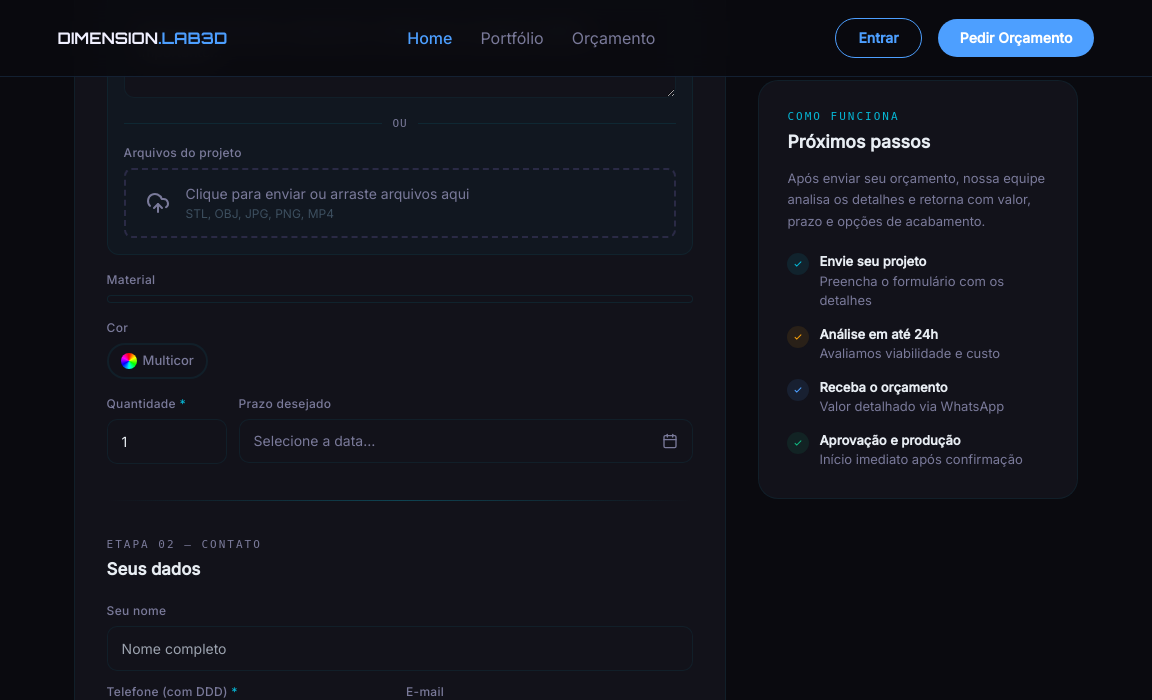
Test case: QuoteRequest page › shows validation error when submitting without description
(page scrolled)
// Select color so zod validation passes, then submit with empty description
Step 1. Click the button "Multicor" → (157, 361), box top-left (107, 343), bottom-right (208, 379)
(page scrolled)
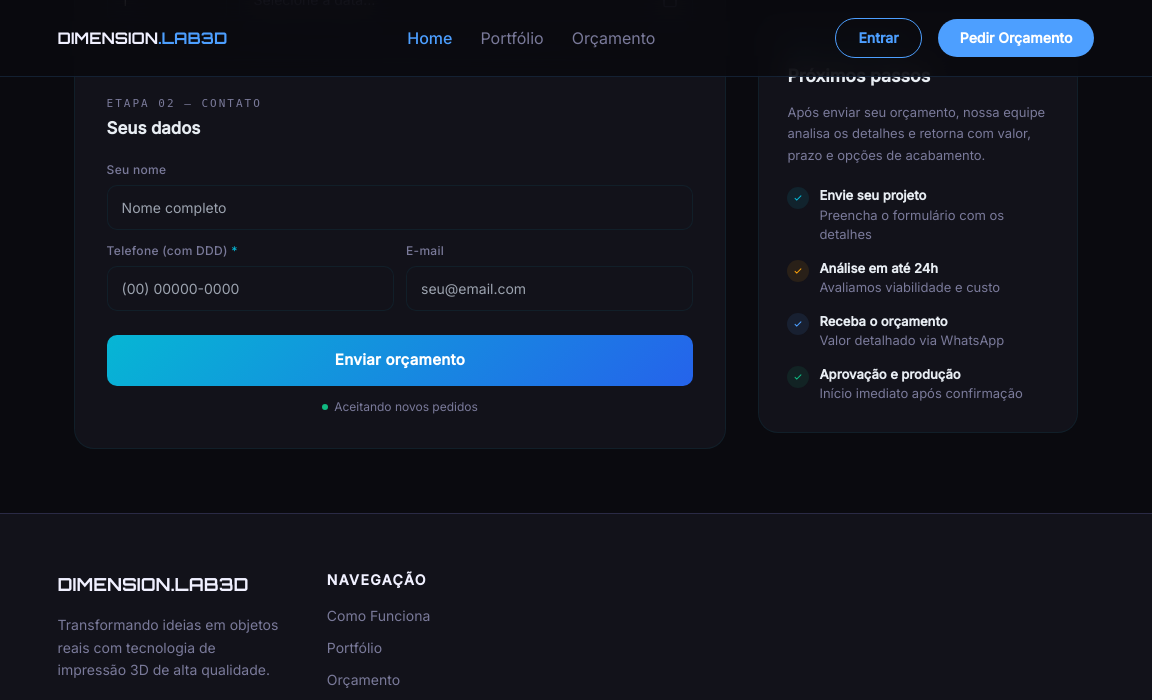
Step 2. Click the button "Enviar orçamento" → (400, 361), box top-left (107, 335), bottom-right (693, 386)
(page scrolled)
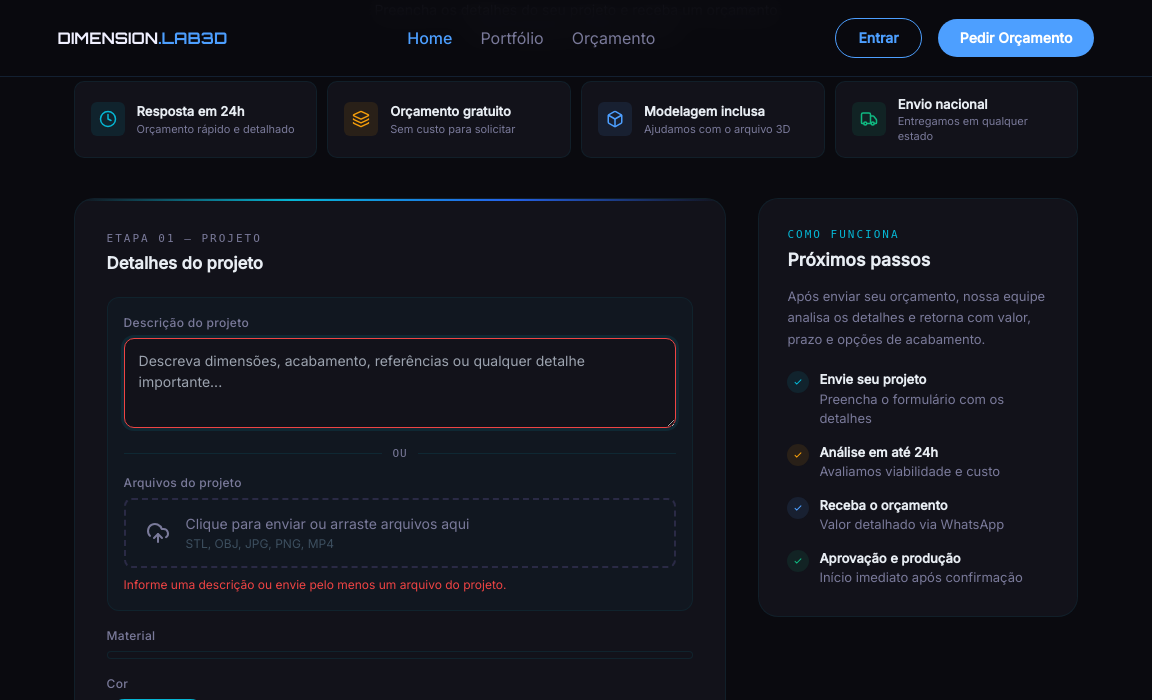
Check: the text "Informe uma descrição ou envie pelo menos um arquivo do projeto." is shown, box top-left (124, 577), bottom-right (506, 592)
